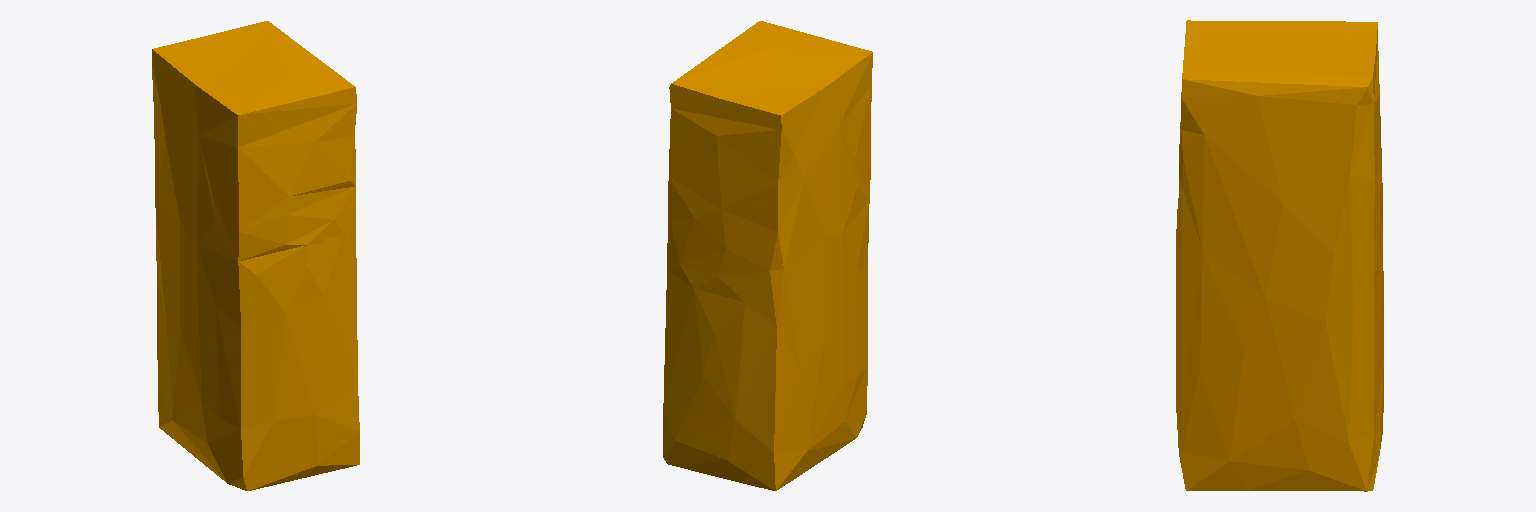
URDF robot description (BlueSaltCube_800_tex):
<?xml version="1.0"?>
<robot name="BlueSaltCube_800_tex">
  <link name="base_link">
    <contact>
      <lateral_friction value="1.0"/>
      <rolling_friction value="0.0"/>
      <contact_cfm value="0.0"/>
      <contact_erp value="1.0"/>
    </contact>
    <inertial>
      <mass value="0.0972116612802"/>
      <inertia ixx="1" ixy="0" ixz="0" iyy="1" iyz="0" izz="1"/>
    </inertial>
    <visual>
      <geometry>
        <mesh filename="BlueSaltCube_800_tex_visual.obj"/>
      </geometry>
    </visual>
    <collision>
      <geometry>
        <mesh filename="BlueSaltCube_800_tex_collision.obj"/>
      </geometry>
    </collision>
  </link>
</robot>

--- Render facts (derived) ---
3 views of the same robot in one strip: view 1: azimuth 30°, elevation 25°; view 2: azimuth 150°, elevation 25°; view 3: azimuth 270°, elevation 25° (orthographic).
Model BlueSaltCube_800_tex with 1 links and 0 joints (none), rooted at base_link, posed every joint at zero.
Links seen in each view (by area): view 1: base_link; view 2: base_link; view 3: base_link.
Boxes of the visible links, x1,y1,x2,y2 form: base_link: [152, 21, 359, 490]; base_link: [663, 21, 872, 490]; base_link: [1176, 20, 1383, 491].
Bounding box of the posed robot: 0.0551 × 0.0674 × 0.1463 m (x, y, z).
1 mesh visuals loaded from 1 distinct referenced files (1 OBJ).